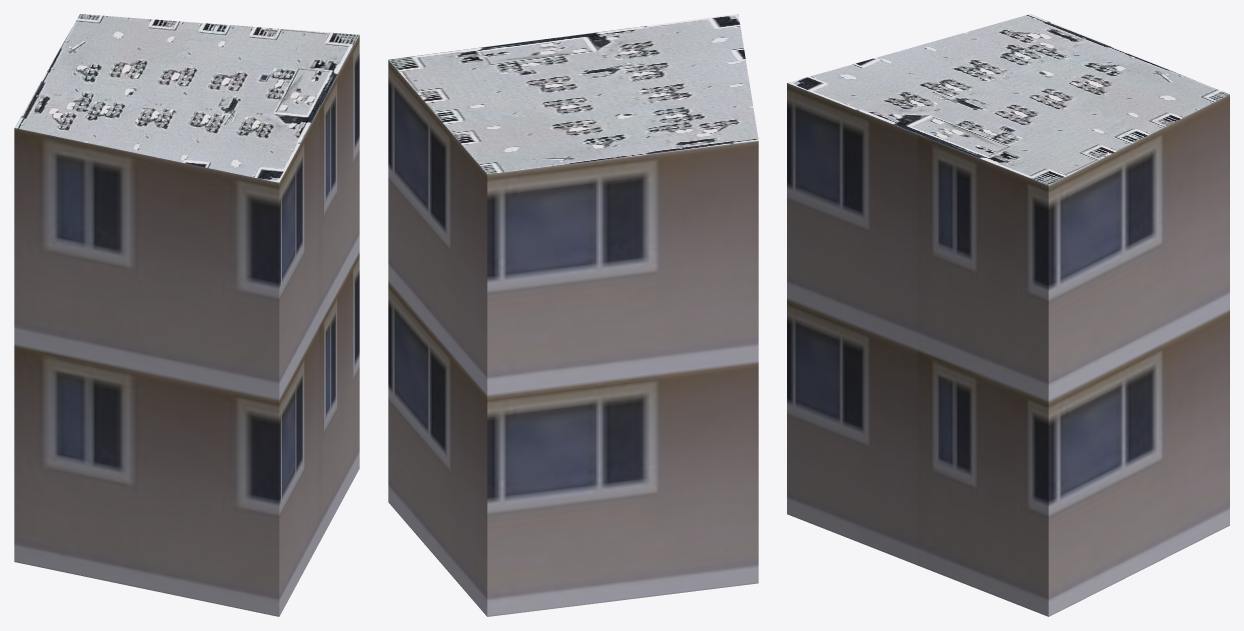
Rendered from ResTex__2882.fbx.
3 views of the same model, side by side, from view 1: azimuth 30°, elevation 25°; view 2: azimuth 150°, elevation 25°; view 3: azimuth 270°, elevation 25° (orthographic). The views are drawn at different scales.
Parts seen in each view (by area): view 1: CityEngineMaterial_21_m, CityEngineMaterial_4_m; view 2: CityEngineMaterial_21_m, CityEngineMaterial_4_m; view 3: CityEngineMaterial_21_m, CityEngineMaterial_4_m.
Part boxes in pixels (x1,y1,x2,y2): CityEngineMaterial_21_m: [14, 35, 359, 616]; CityEngineMaterial_4_m: [14, 14, 358, 182]; CityEngineMaterial_21_m: [388, 60, 758, 616]; CityEngineMaterial_4_m: [388, 14, 758, 174]; CityEngineMaterial_21_m: [787, 83, 1229, 616]; CityEngineMaterial_4_m: [788, 14, 1229, 185].
Size of the model in its own units: 5.12 by 6 by 5.58.
2 materials, 2 textured.
